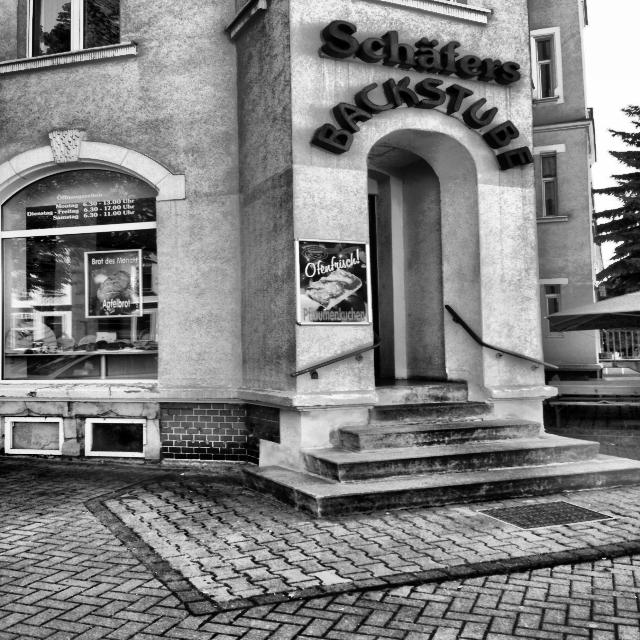escada: (246, 398, 635, 512)
